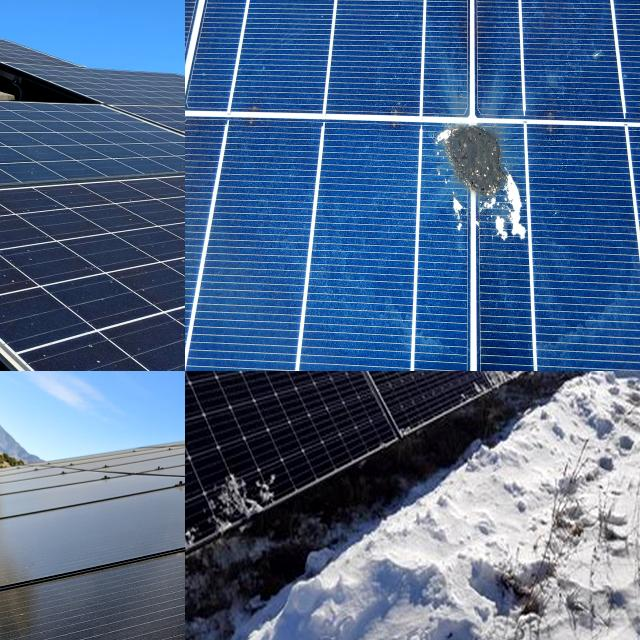bird: (412, 113, 544, 272)
dust: (15, 193, 185, 340), (0, 305, 71, 371)
panel: (185, 462, 269, 594), (457, 371, 576, 399), (185, 371, 312, 397), (327, 371, 437, 387), (445, 371, 525, 387), (583, 371, 633, 392), (544, 371, 591, 388), (504, 371, 552, 386)
